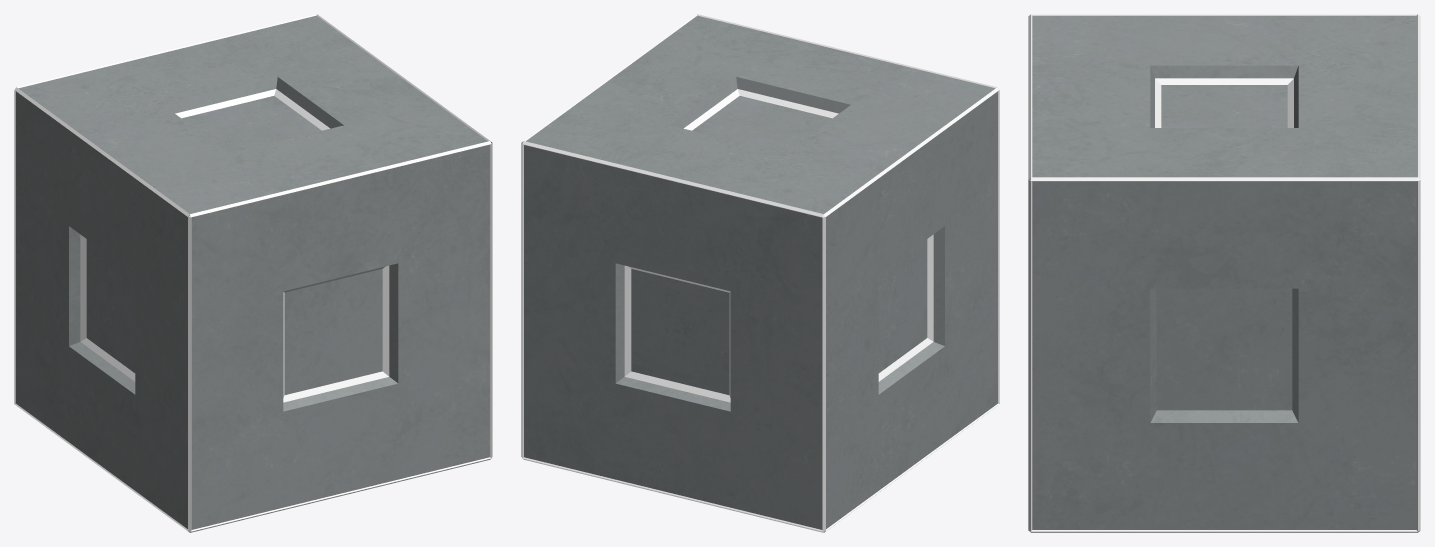
The picture shows the model from 3 angles, left to right: view 1: azimuth 30°, elevation 25°; view 2: azimuth 150°, elevation 25°; view 3: azimuth 270°, elevation 25°; orthographic projection. The views are drawn at different scales.
Visible parts, largest first — view 1: Cube 4*4*4m; view 2: Cube 4*4*4m; view 3: Cube 4*4*4m.
Part boxes in pixels (box(x1,y1,x2,y2)): Cube 4*4*4m: box(14, 14, 492, 532); Cube 4*4*4m: box(521, 14, 999, 532); Cube 4*4*4m: box(1028, 14, 1420, 532).
Bounding box in the file's own units: 403 × 403 × 403.
Materials: 2 (1 with a texture image).
